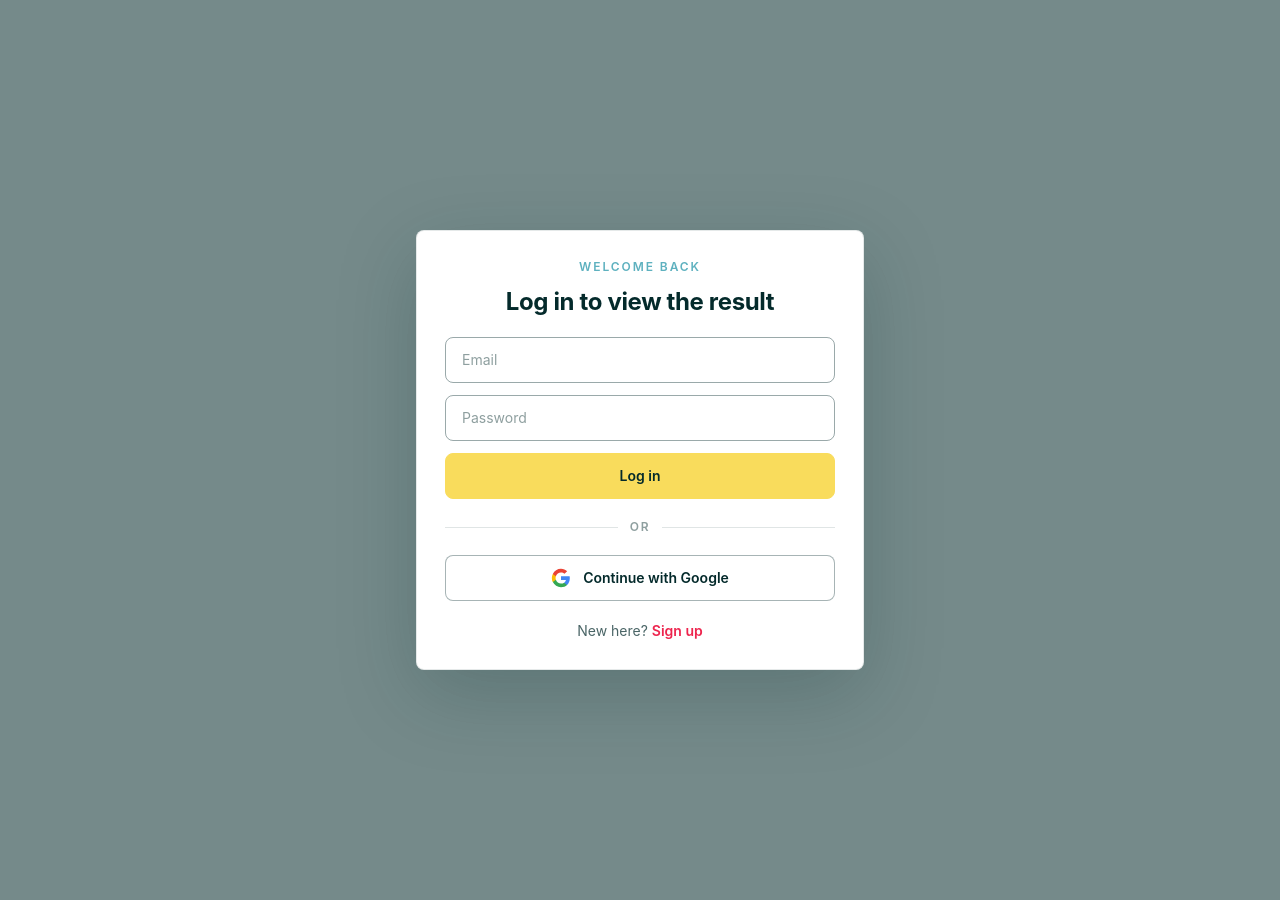
it: AuthModal › renders custom context text
The width and height of the screenshot is (1280, 900).
Expected: the heading "Log in to view the result" is shown, [506,287,774,316]
Click the button "Sign up" at (677, 631), box [652,621,703,641]
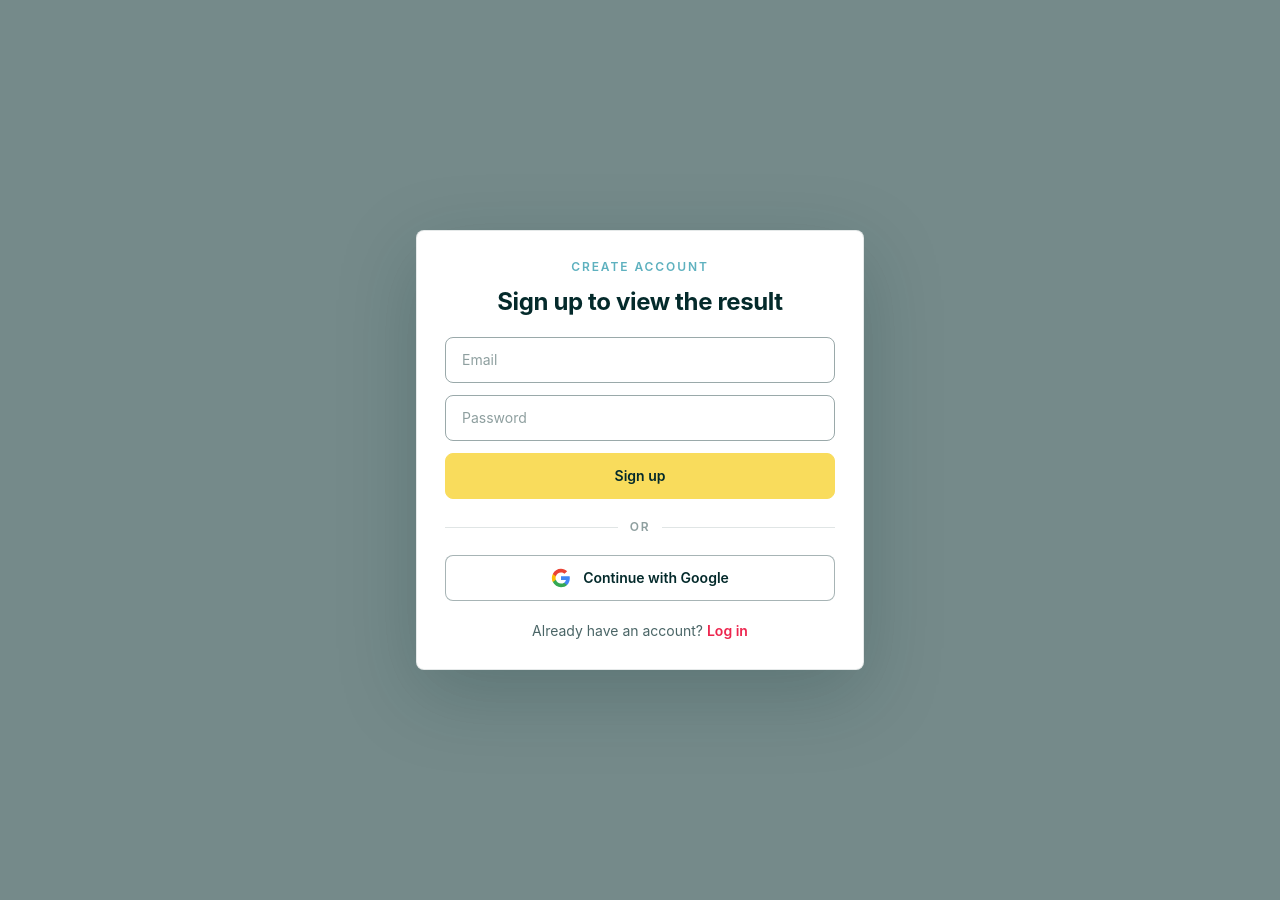
Expected: the heading "Sign up to view the result" is shown, [497,287,783,316]
